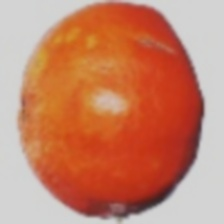tangerine: (8, 50, 200, 209)
